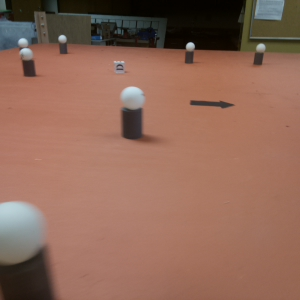blockD: (113, 60, 125, 74)
corner: (34, 10, 49, 45)
obstacle: (1, 199, 57, 300), (120, 88, 146, 139), (20, 49, 34, 76), (253, 44, 265, 66), (185, 42, 194, 64), (58, 36, 68, 53)
start: (189, 98, 234, 109)
